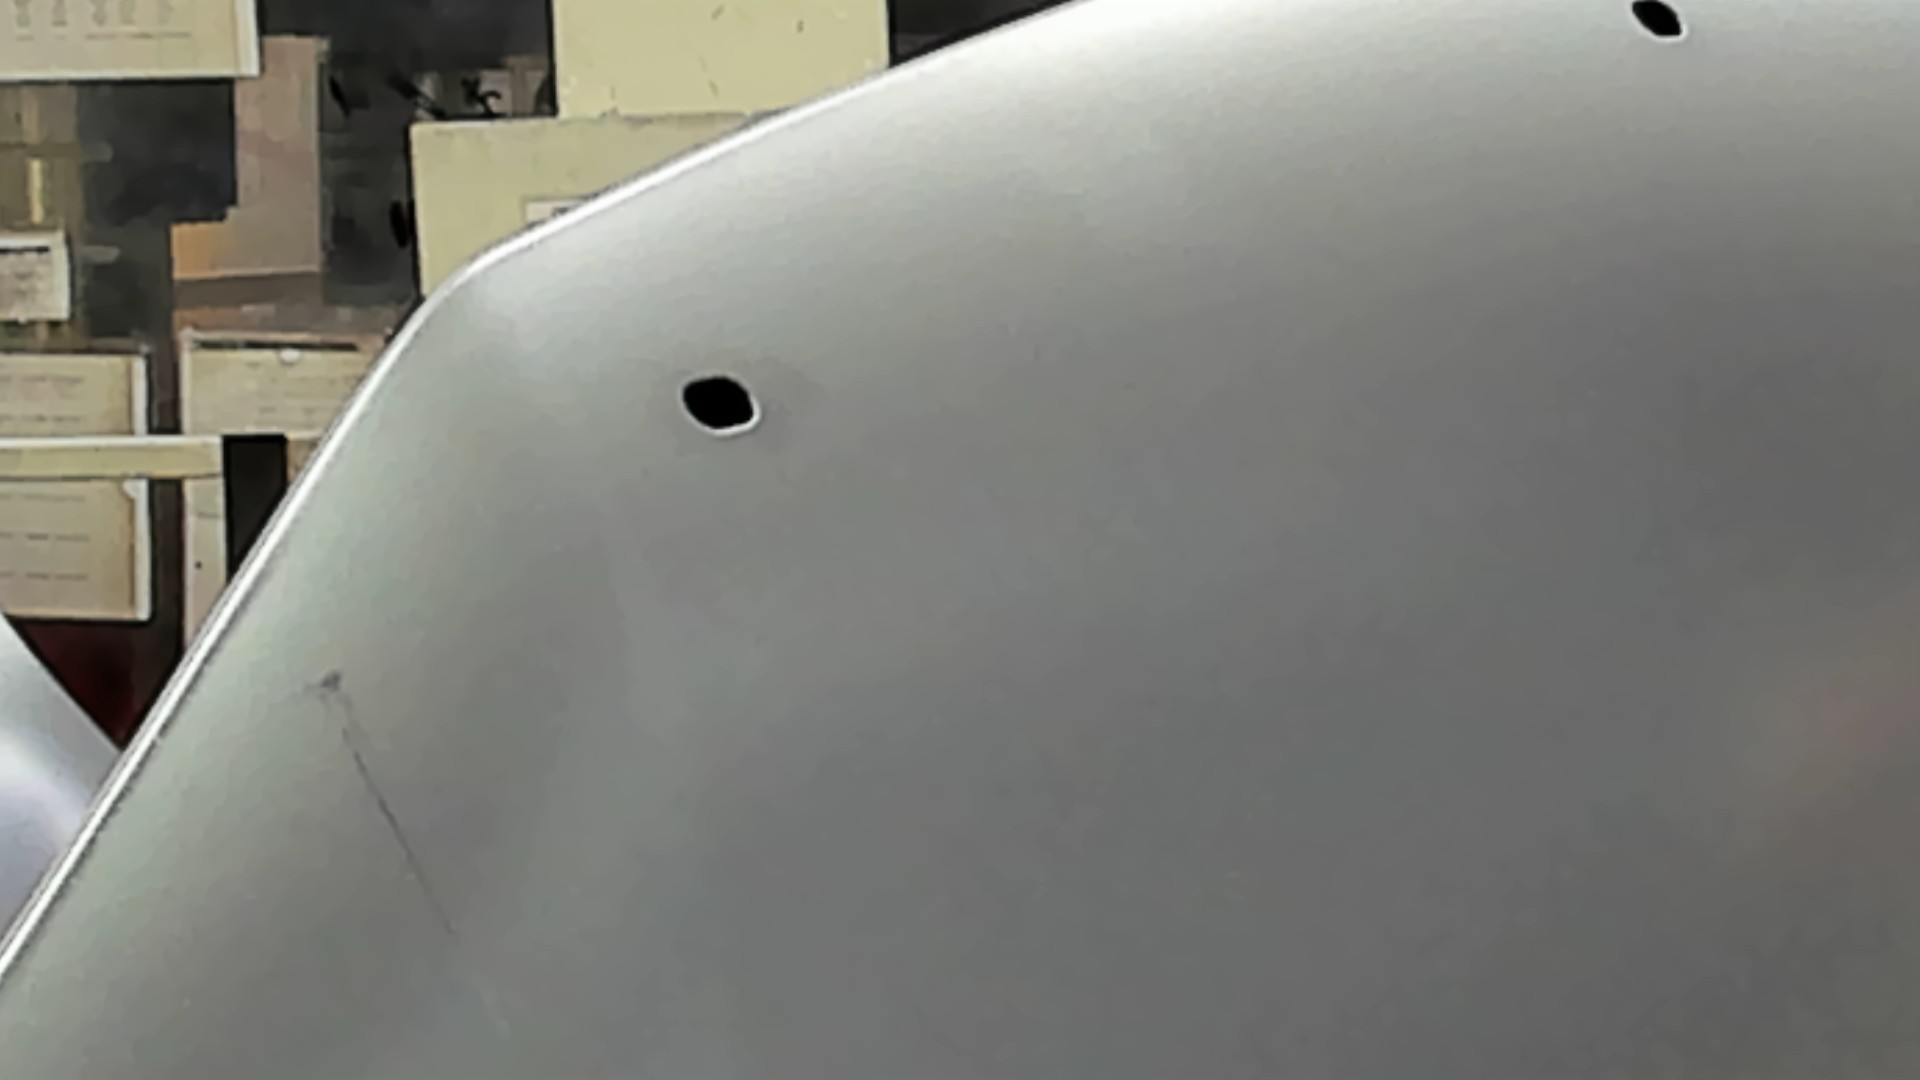amorfo: (674, 372, 767, 438), (1629, 1, 1692, 45)
capo: (886, 99, 1916, 1080)
